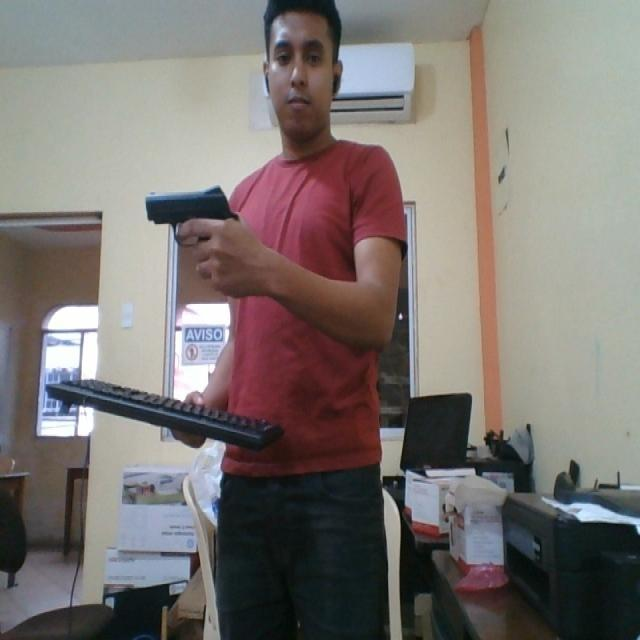weapon: (144, 180, 241, 251)
